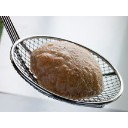poori: (32, 42, 104, 96)
